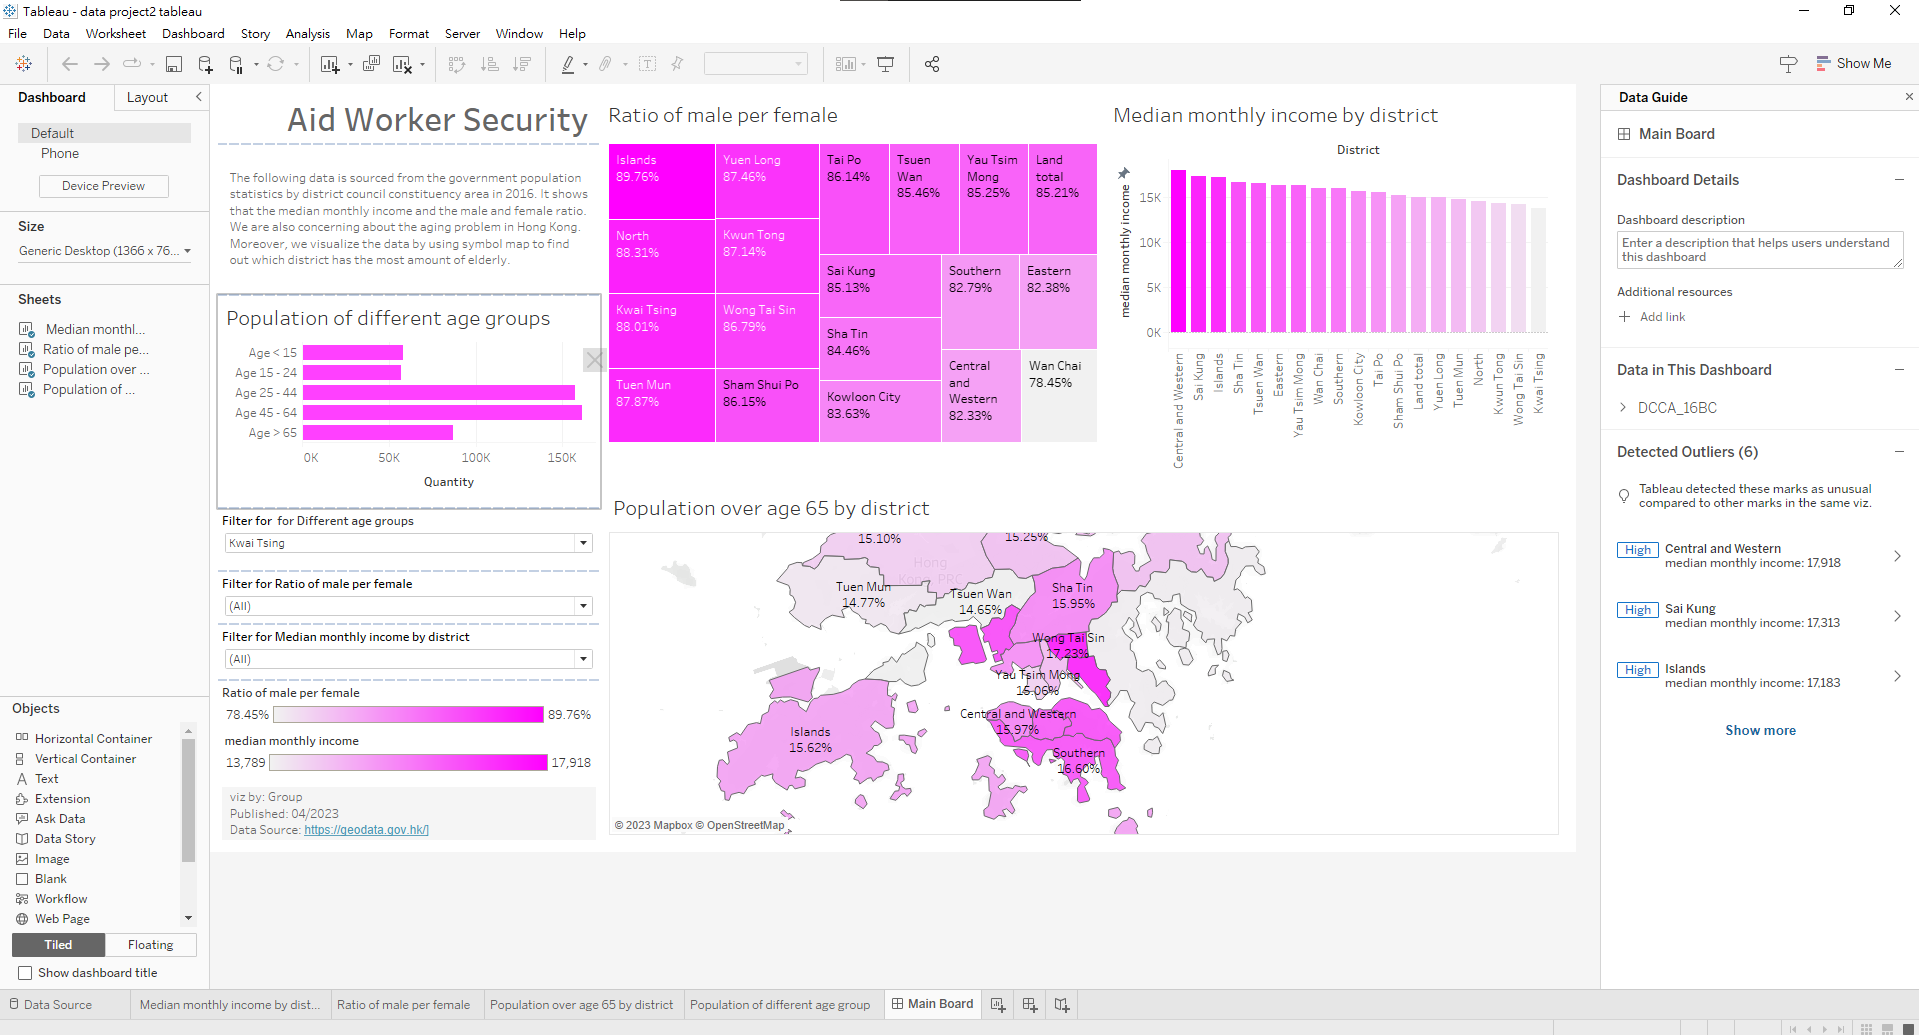

Layout of this report page (visuals, bound fields, positions):
{"tool":"tableau","page":{"name":"Main Board","canvas":[1366,768],"ordinal":0},"visuals":[{"type":"text","box":[8,8,382,51.7]},{"type":"worksheet","title":"Ratio of male per female","mark":"Automatic","box":[390,8,505,388]},{"type":"worksheet","title":" Median monthly income by distrct ","mark":"Automatic","rows":["Calculation_450359974098427910"],"cols":["dc_eng"],"box":[895,8,447,388]},{"type":"text","box":[8,59.7,382,151.3]},{"type":"worksheet","title":"Population of different age group","mark":"Bar","box":[8,211,382,213]},{"type":"dashboard-object","box":[373,264,24,24]},{"type":"worksheet","title":"Population over age 65 by district","mark":"Automatic","box":[390,396,968,364]},{"type":"filter","title":"Population of different age group","param":"[federated.0gwq28f186d4kj1dmnog40ecv8fn].[none:dc_eng:nk]","box":[8,424,382,63]},{"type":"filter","title":"Ratio of male per female","param":"[federated.0gwq28f186d4kj1dmnog40ecv8fn].[none:dc_eng:nk]","box":[8,487,382,53]},{"type":"filter","title":" Median monthly income by distrct ","param":"[federated.0gwq28f186d4kj1dmnog40ecv8fn].[none:dc_eng:nk]","box":[8,540,382,56.4]},{"type":"legend","title":"Ratio of male per female","param":"[federated.0gwq28f186d4kj1dmnog40ecv8fn].[usr:Calculation_450359974097428485:qk]","box":[8,596.4,382,48]},{"type":"legend","title":" Median monthly income by distrct ","param":"[federated.0gwq28f186d4kj1dmnog40ecv8fn].[usr:Calculation_450359974098427910:qk]","box":[8,644.4,382,48]},{"type":"text","box":[8,699,382,61]},{"type":"blank","box":[1159,721,185,18]}]}

Visuals, with their boxes on the page's 1366x768 design canvas (x1, y1, x2, y2). These are canvas units, not pixel positions in the 1919x1035 screenshot, which may show the page scaled, cropped or inside an application window:
text: rect(8, 8, 390, 60)
"Ratio of male per female" worksheet: rect(390, 8, 895, 396)
" Median monthly income by distrct " worksheet: rect(895, 8, 1342, 396)
text: rect(8, 60, 390, 211)
"Population of different age group" worksheet (Bar marks): rect(8, 211, 390, 424)
dashboard-object: rect(373, 264, 397, 288)
"Population over age 65 by district" worksheet: rect(390, 396, 1358, 760)
"Population of different age group" filter: rect(8, 424, 390, 487)
"Ratio of male per female" filter: rect(8, 487, 390, 540)
" Median monthly income by distrct " filter: rect(8, 540, 390, 596)
"Ratio of male per female" legend: rect(8, 596, 390, 644)
" Median monthly income by distrct " legend: rect(8, 644, 390, 692)
text: rect(8, 699, 390, 760)
blank: rect(1159, 721, 1344, 739)
